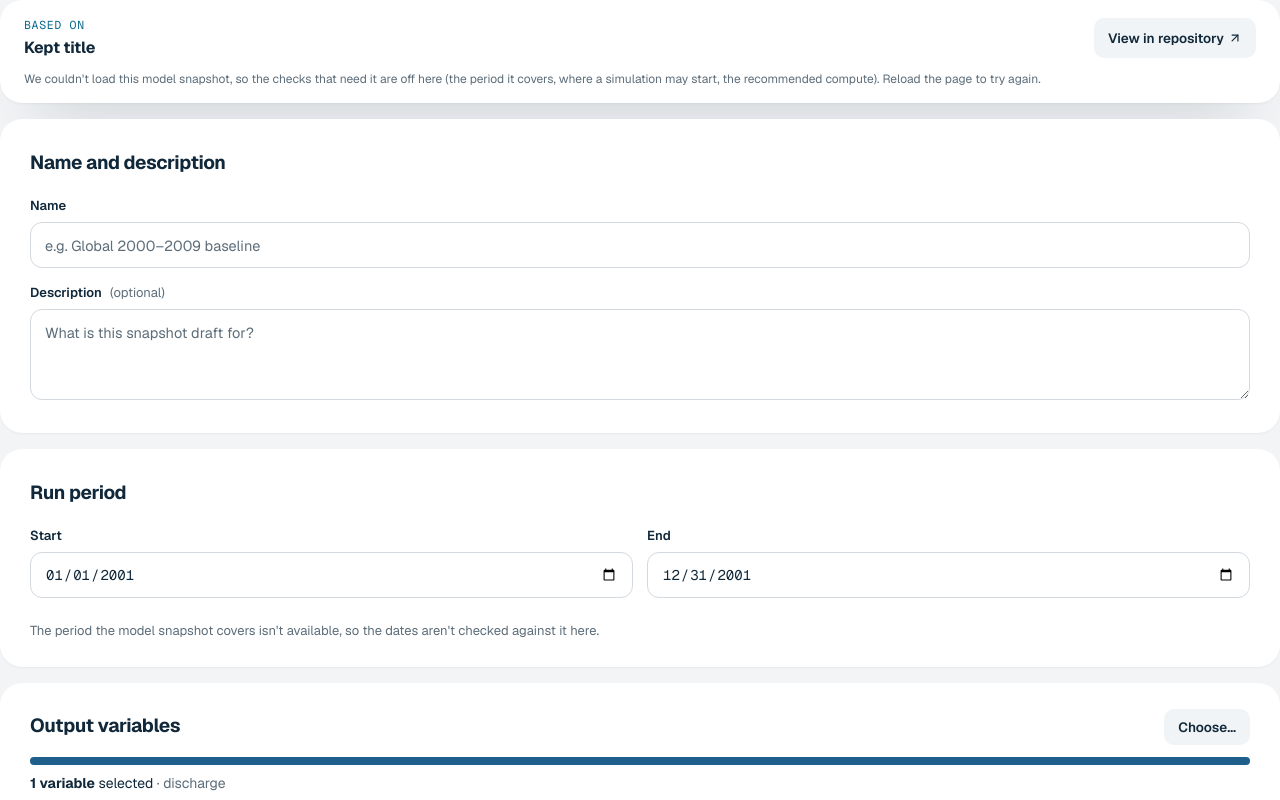
Test: the draft run step: without a snapshot › sets no min or max, says why, and lists only the stored variables
Expected: the text "isn't available, so the dates aren't checked" is shown, x1=30 y1=622 x2=599 y2=639
Expected: the text "1 variable" is shown, x1=30 y1=774 x2=95 y2=792
Click the button with aria-label "Choose output variables". click: click(1207, 727)
box: x1=1164 y1=709 x2=1250 y2=745
(page scrolled)
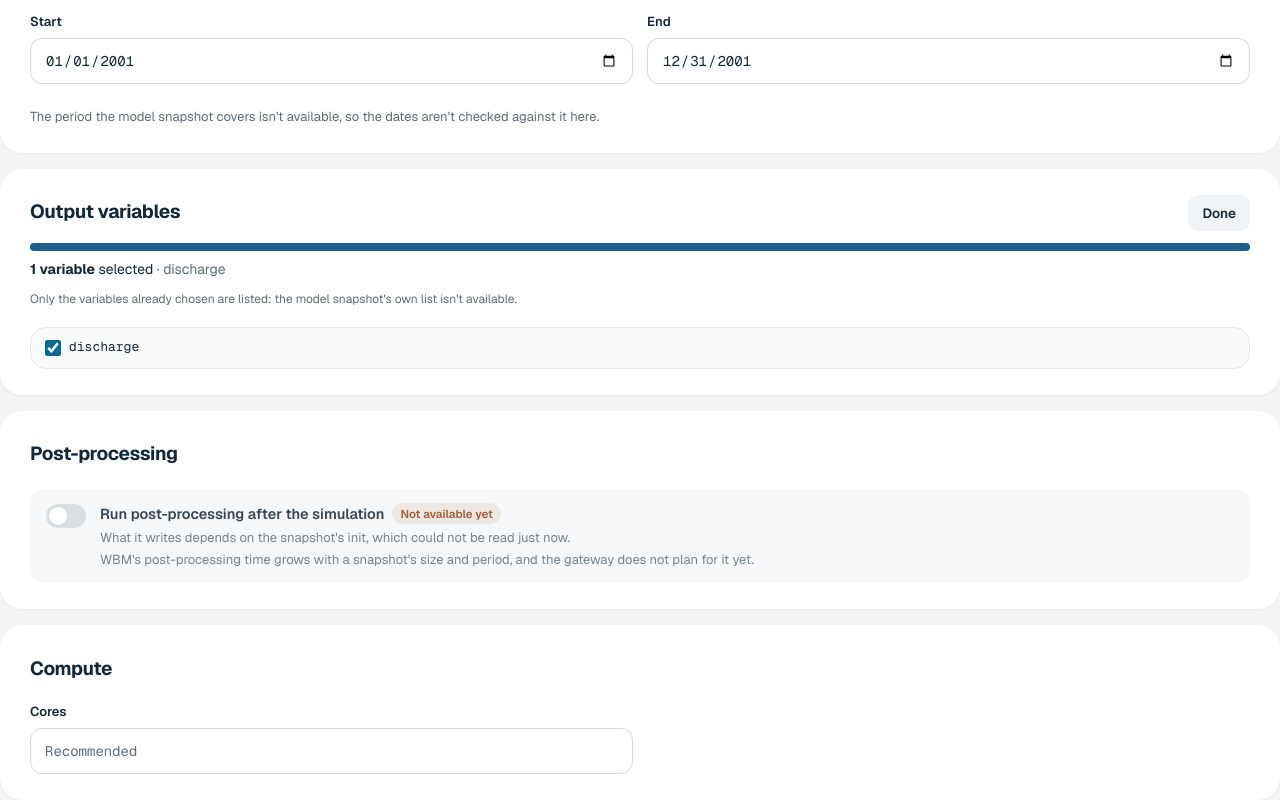
Result: the checkbox labelled "discharge" is shown at x1=45 y1=340 x2=61 y2=356
